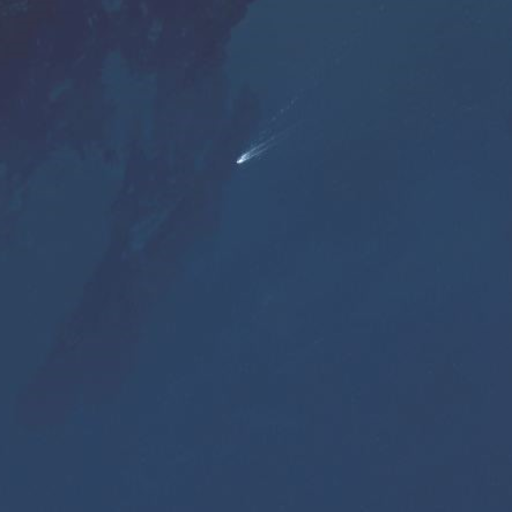ship: (232, 154, 250, 167)
